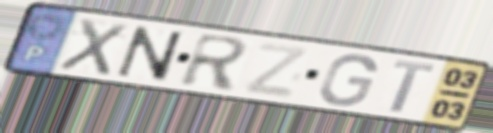G: (317, 52, 380, 108)
N: (114, 24, 186, 84)
R: (176, 31, 253, 92)
T: (387, 58, 439, 115)
X: (54, 16, 131, 78)
Z: (240, 40, 314, 101)
